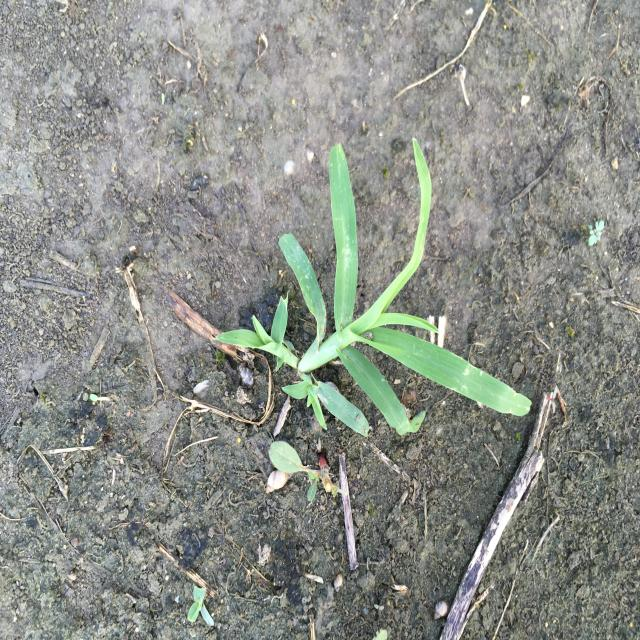Goosegrass: (213, 137, 534, 439)
